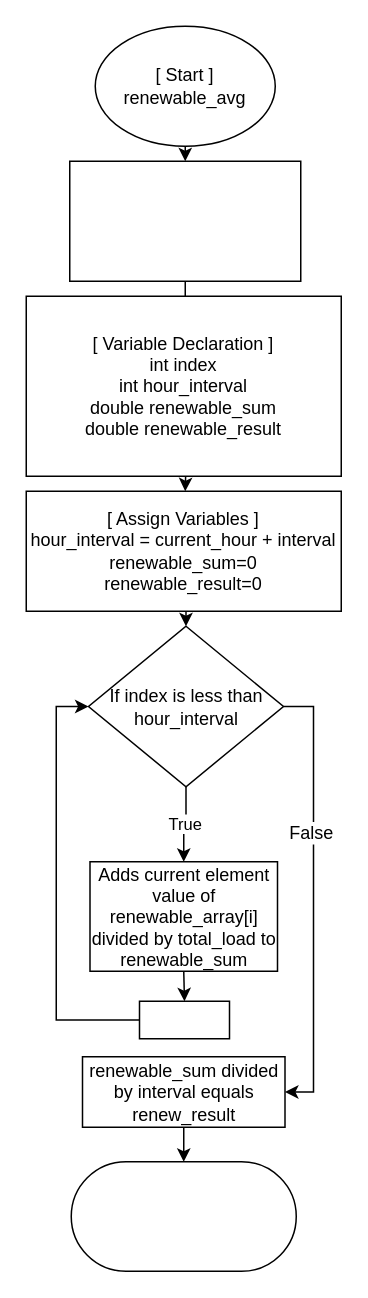
The diagram is 368 pixels wide and 1298 high, and some of its shapes have lost their labels. Each missing label, with the centre of its shape:
"[ End Return] renew_result" goes at (183,1215).
"[ Function parameters ] renewable renewable_array int interval int current_hour" goes at (184,220).
"index++" goes at (184,1019).
